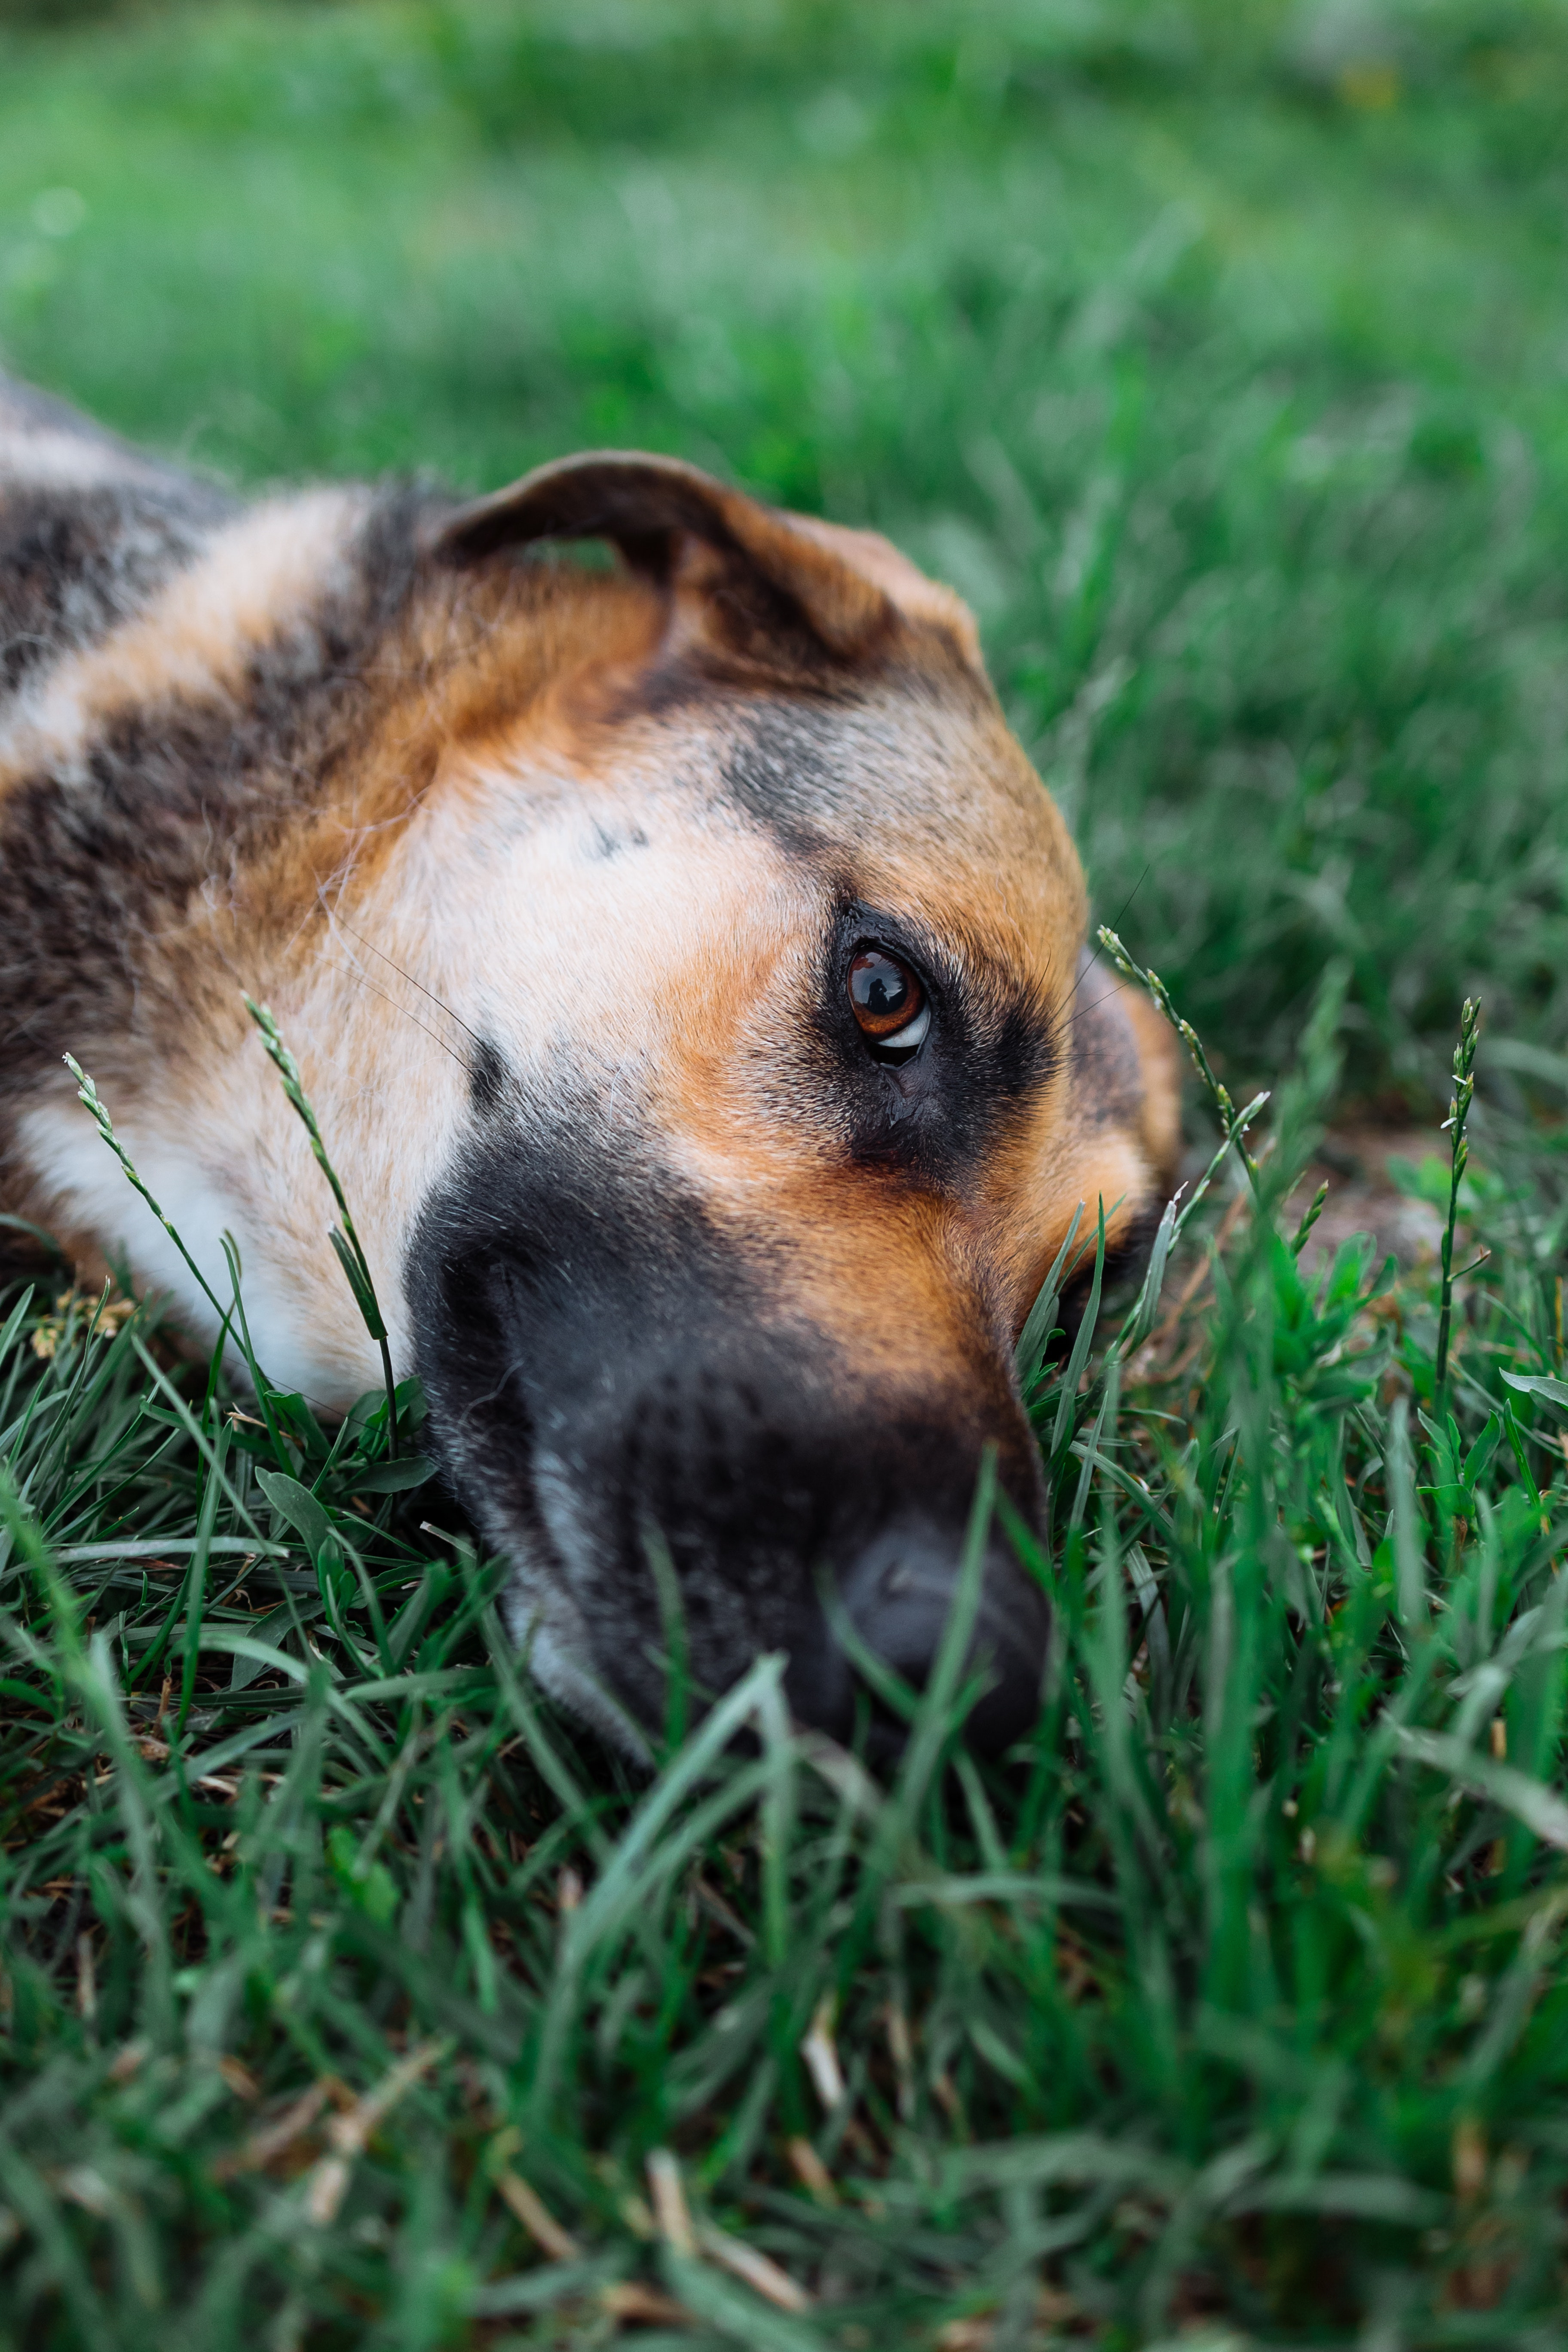dog: (2, 402, 1202, 1823)
